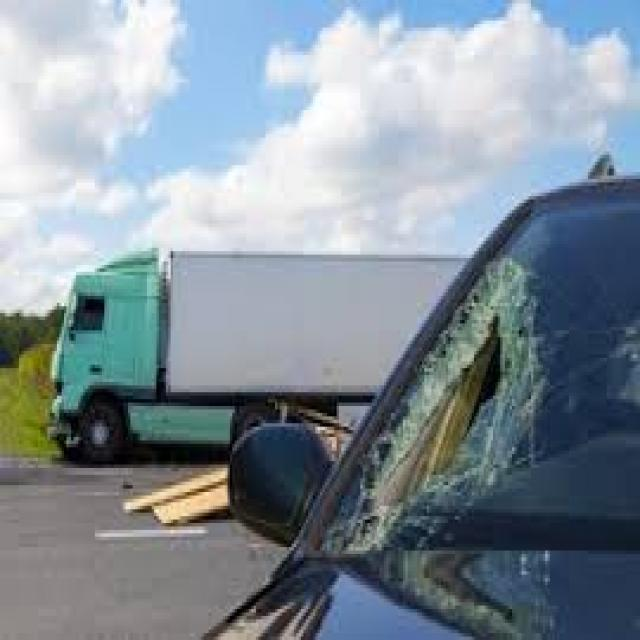accident: (259, 165, 600, 635)
